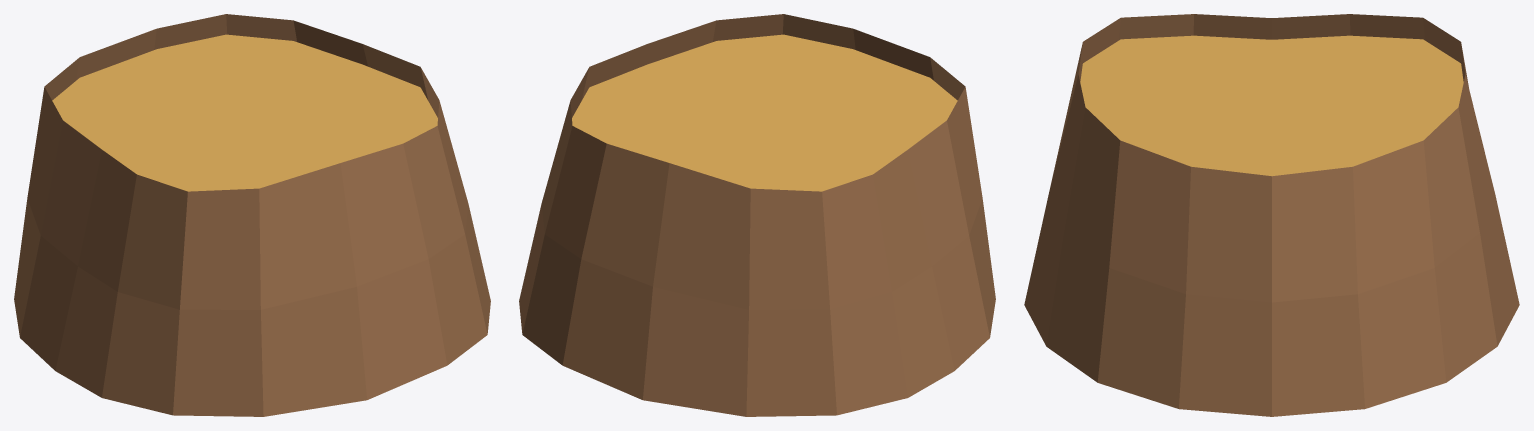
Rendered from arvore cortada.fbx.
3 views of the same model, side by side, from view 1: azimuth 30°, elevation 25°; view 2: azimuth 150°, elevation 25°; view 3: azimuth 270°, elevation 25° (orthographic). The views are drawn at different scales.
Visible parts, largest first — view 1: Cube, Cube.001; view 2: Cube, Cube.001; view 3: Cube, Cube.001.
Part boxes in pixels (x1,y1,x2,y2): Cube: [14, 14, 490, 416]; Cube.001: [52, 34, 437, 191]; Cube: [519, 14, 995, 416]; Cube.001: [572, 34, 957, 191]; Cube: [1024, 14, 1519, 416]; Cube.001: [1080, 35, 1463, 176].
Bounding box in the file's own units: 159 × 85.96 × 160.
